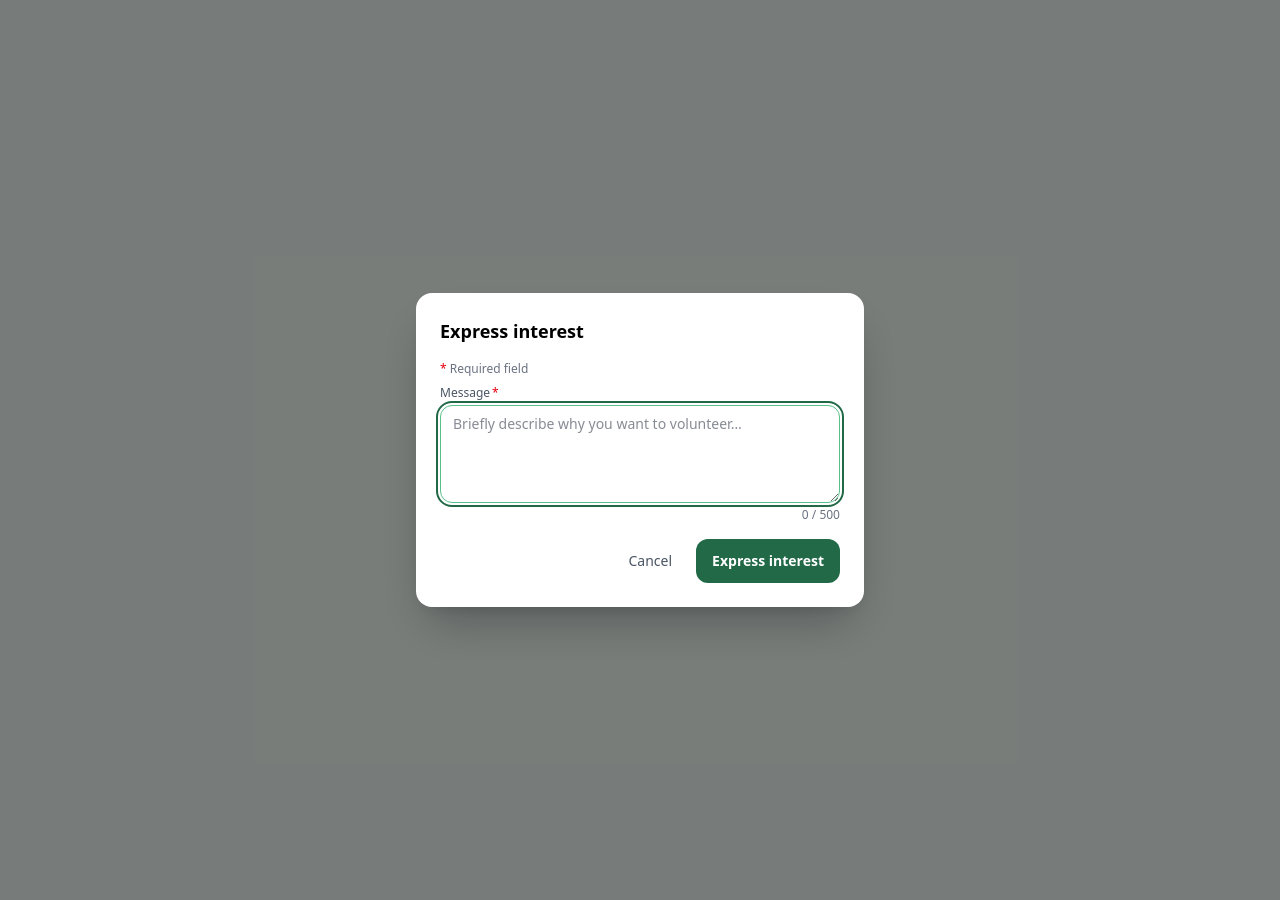
Test: SignUpModal duplicate sign-up conflict › states the specific reason rather than a generic unknown error
Type "Please let me help." into the text box labelled "Message*" at (640, 454), box 440,405 -> 840,503
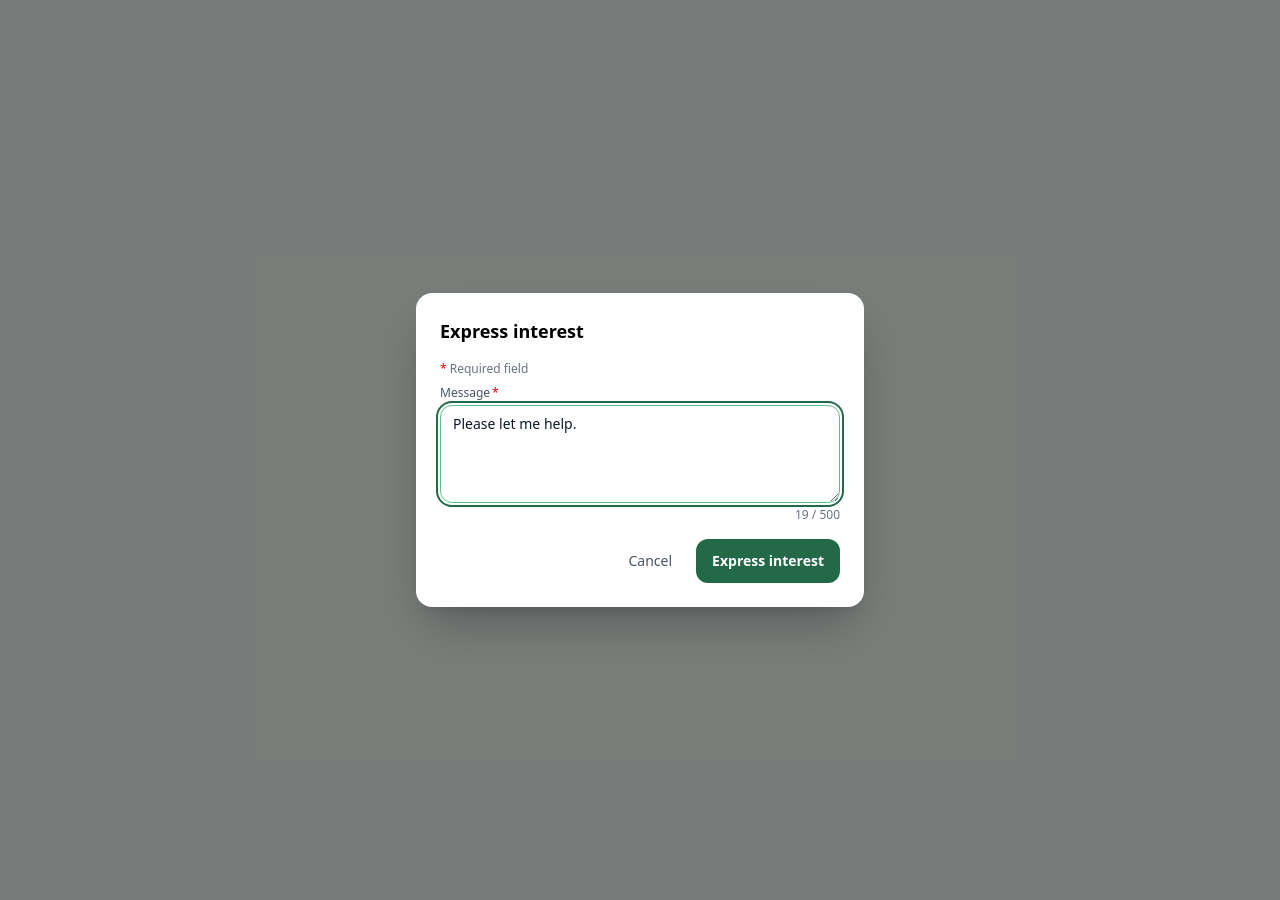
Click the button "Express interest" at (768, 561), box 696,539 -> 840,583
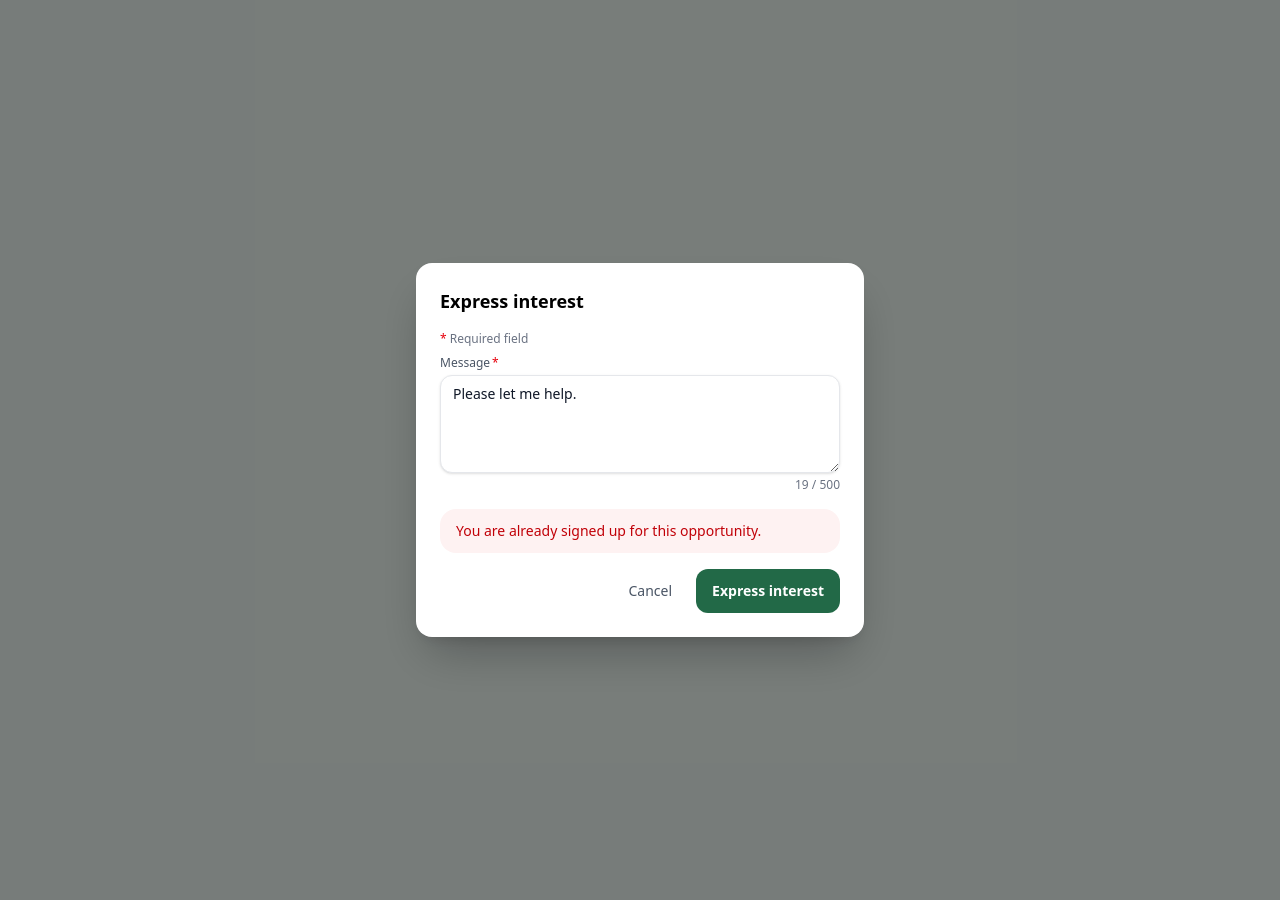
Expected: the message does not show "Unknown error", 440,509 -> 840,553
Now the message reads "You are already signed up for this opportunity.", box 456,521 -> 761,540
